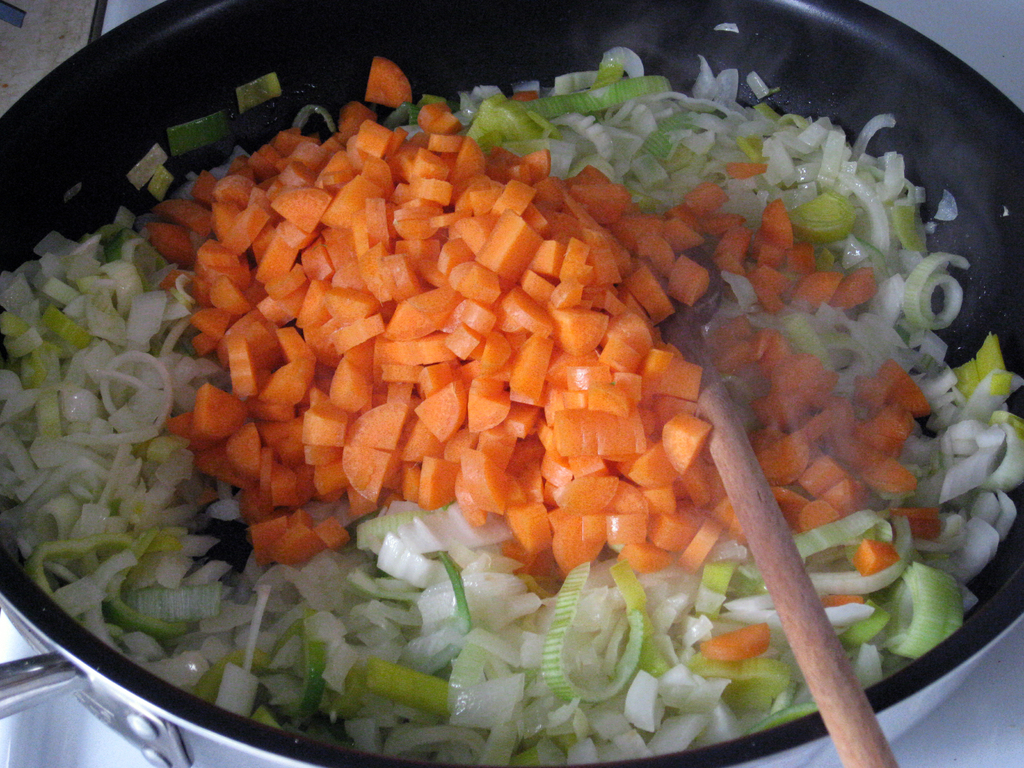Carrot: (157, 104, 730, 675)
